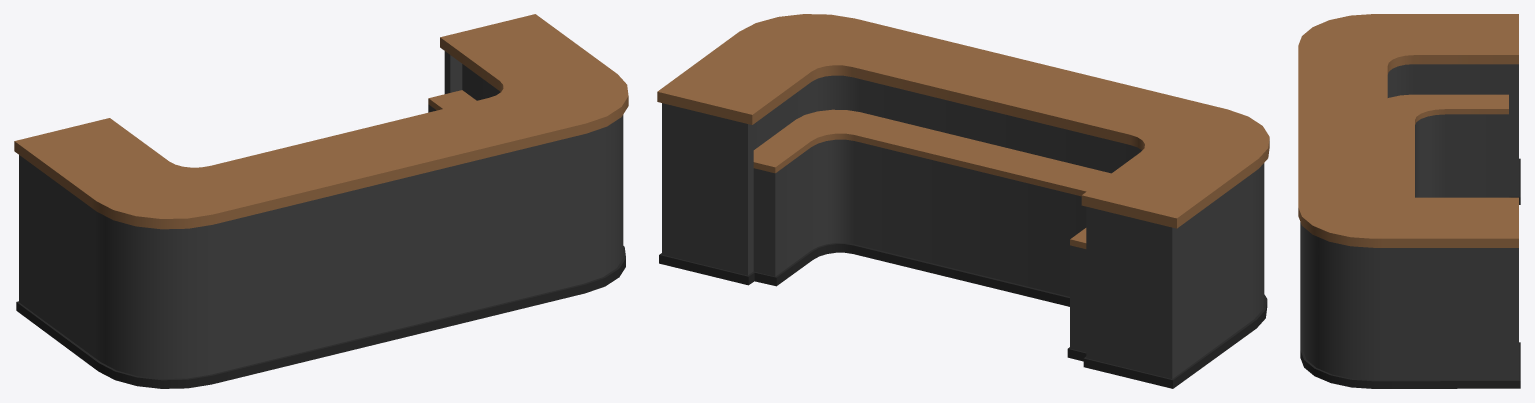
The model's file is SM_Props_Reception_01.fbx.
3 renders of one model, left to right at view 1: azimuth 30°, elevation 25°; view 2: azimuth 150°, elevation 25°; view 3: azimuth 270°, elevation 25°, orthographic. The views are drawn at different scales.
Parts seen in each view (by area): view 1: SM_Props_Reception_01; view 2: SM_Props_Reception_01; view 3: SM_Props_Reception_01.
Part boxes in pixels (bbox=[...]): SM_Props_Reception_01: bbox=[14, 14, 628, 388]; SM_Props_Reception_01: bbox=[657, 14, 1269, 388]; SM_Props_Reception_01: bbox=[1298, 14, 1520, 388].
Size of the model in its own units: 4.15 by 1.3 by 1.73.
